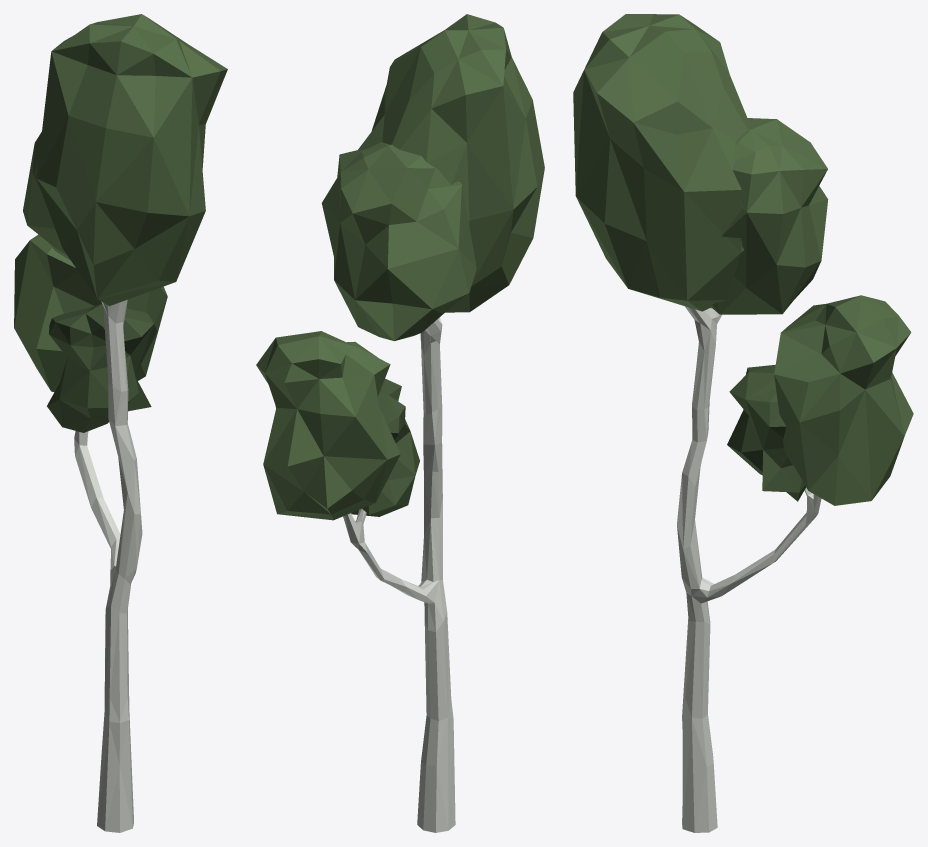
The model's file is BirchTree_5.lod1.glb.
3 views of the same model, side by side, from view 1: azimuth 30°, elevation 25°; view 2: azimuth 150°, elevation 25°; view 3: azimuth 270°, elevation 25° (orthographic). The views are drawn at different scales.
Visible parts, largest first — view 1: BirchTree_5; view 2: BirchTree_5; view 3: BirchTree_5.
Boxes of the visible parts, bbox=[...] form: BirchTree_5: bbox=[14, 14, 227, 832]; BirchTree_5: bbox=[256, 14, 544, 832]; BirchTree_5: bbox=[573, 14, 913, 832].
Size of the model in its own units: 1.19 by 5 by 1.93.
